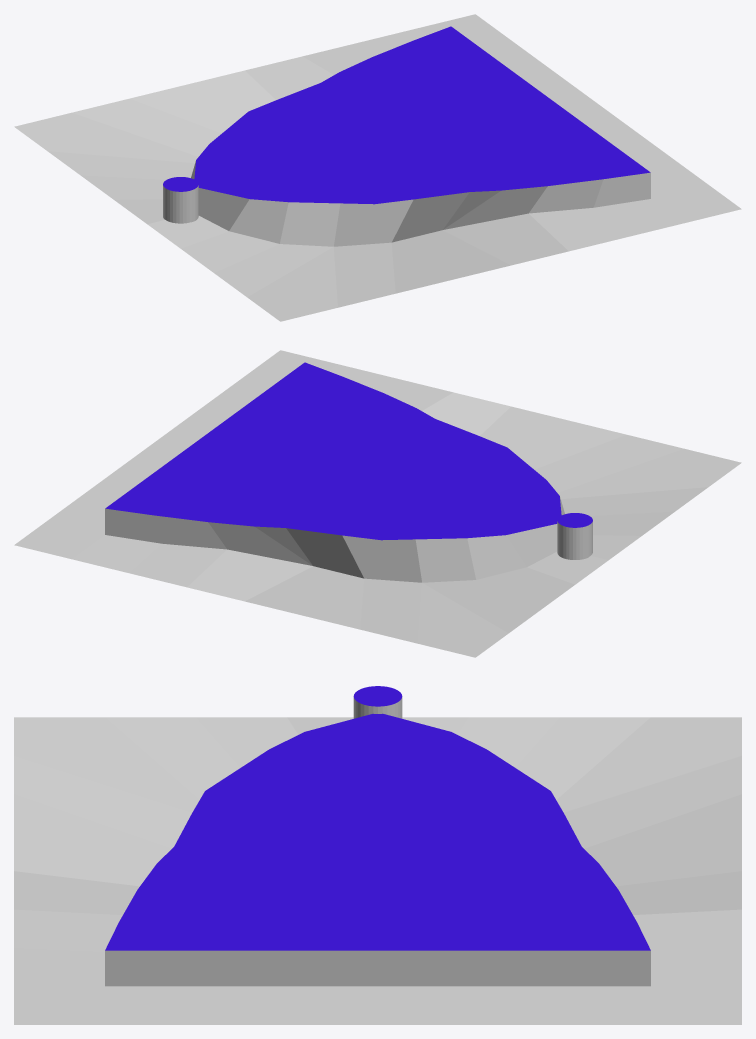
File: NotGate.fbx
3 views of the same model, one above another, from view 1: azimuth 30°, elevation 25°; view 2: azimuth 150°, elevation 25°; view 3: azimuth 270°, elevation 25° (orthographic). The views are drawn at different scales.
Parts seen in each view (by area): view 1: NotGate; view 2: NotGate; view 3: NotGate.
Boxes of the visible parts, box(x1,y1,x2,y2) form: NotGate: box(14, 14, 741, 321); NotGate: box(14, 350, 741, 657); NotGate: box(14, 686, 741, 1024).
Size of the model in its own units: 200 by 19.9 by 200.
